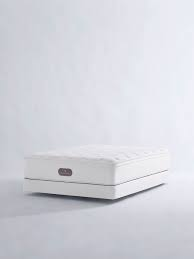bed-matress: (22, 144, 171, 203)
